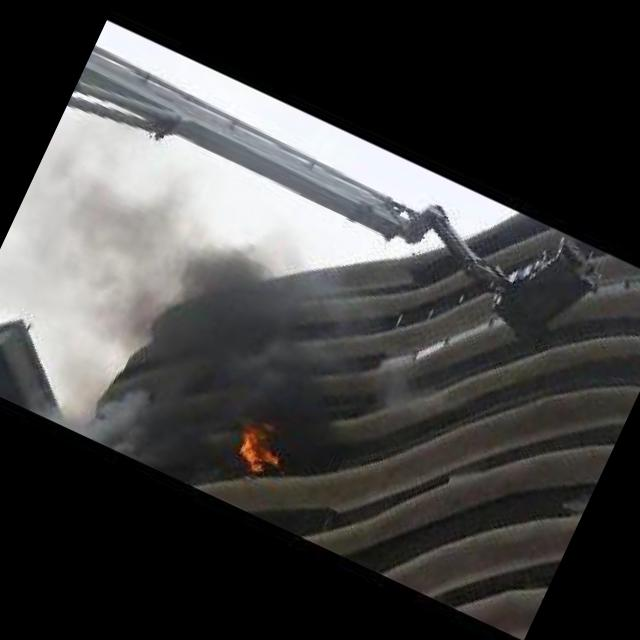fire: (209, 400, 309, 491)
smoke: (3, 142, 376, 428), (40, 339, 188, 466)
